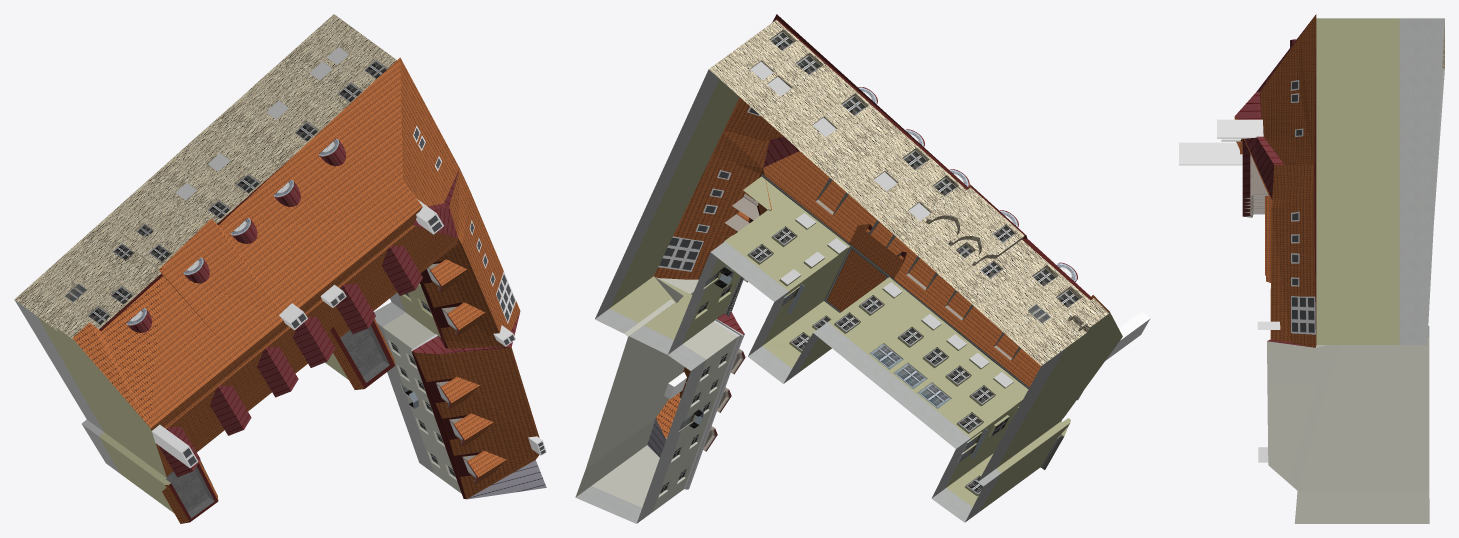
File: Kiriku_poik_4.obj
The picture shows the model from 3 angles, left to right: view 1: azimuth 30°, elevation 25°; view 2: azimuth 150°, elevation 25°; view 3: azimuth 270°, elevation 25°; orthographic projection. The views are drawn at different scales.
Visible parts, largest first — view 1: Kiriku_poik_4; view 2: Kiriku_poik_4; view 3: Kiriku_poik_4.
Part boxes in pixels (x1,y1,x2,y2): Kiriku_poik_4: [14, 14, 546, 523]; Kiriku_poik_4: [575, 14, 1150, 523]; Kiriku_poik_4: [1179, 14, 1444, 523].
Bounding box in the file's own units: 46.47 × 45.14 × 23.82.
